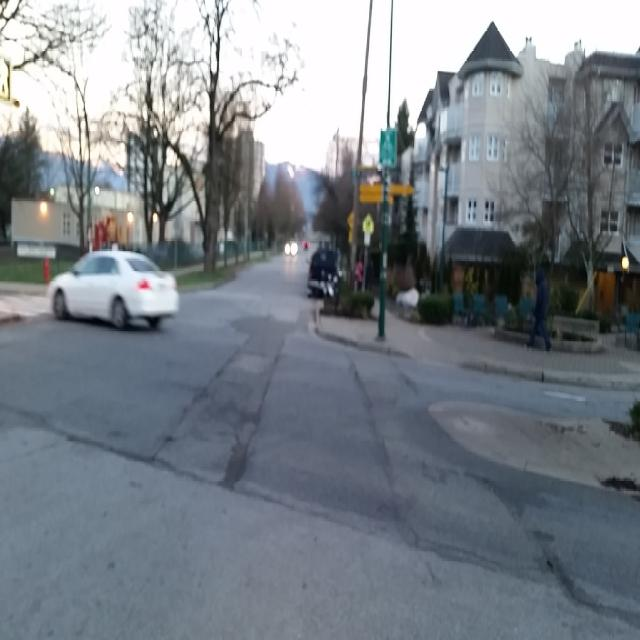car: (46, 246, 179, 326)
